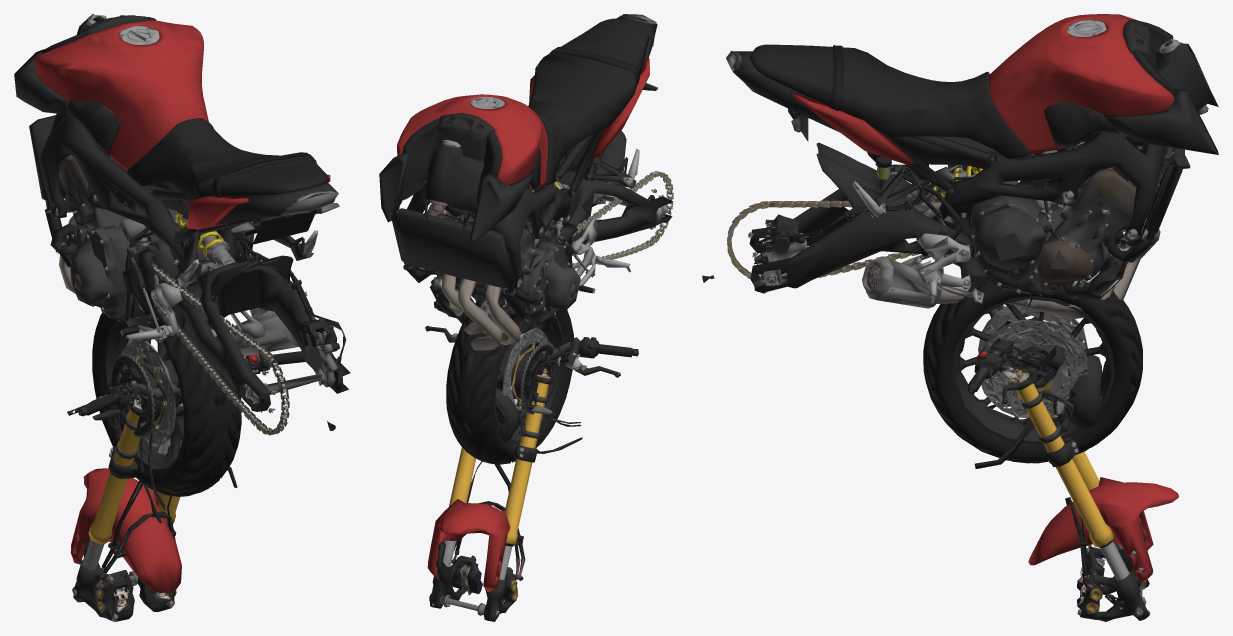
The model's file is StreetThree_Matte.fbx.
3 renders of one model, left to right at view 1: azimuth 30°, elevation 25°; view 2: azimuth 150°, elevation 25°; view 3: azimuth 270°, elevation 25°, orthographic. The views are drawn at different scales.
Visible parts, largest first — view 1: street_Body, street_GasTank, street_WheelRear, street_Seat, street_FenderFront, street_Fork, street_Steering, street_BrakeFront, street_Muffler, street_DiscFront, street_BrakeRear, street_RearSuspension (+1 smaller); view 2: street_Body, street_Seat, street_WheelRear, street_GasTank, street_Fork, street_FenderFront, street_Steering, street_Muffler, street_BrakeFront, street_DiscFront, street_Headlight, street_FenderRear; view 3: street_Body, street_GasTank, street_WheelRear, street_Seat, street_Fork, street_FenderFront, street_Muffler, street_Steering, street_DiscFront, street_DiscRear, street_Headlight, street_FenderRear (+3 smaller).
Part boxes in pixels (x1=…): street_Body: x1=14, y1=14, x2=350, y2=435; street_GasTank: x1=34, y1=15, x2=208, y2=170; street_WheelRear: x1=92, y1=312, x2=241, y2=496; street_Seat: x1=127, y1=118, x2=329, y2=201; street_FenderFront: x1=70, y1=468, x2=181, y2=592; street_Fork: x1=72, y1=405, x2=183, y2=617; street_Steering: x1=67, y1=351, x2=305, y2=573; street_BrakeFront: x1=94, y1=567, x2=176, y2=621; street_Muffler: x1=59, y1=216, x2=298, y2=355; street_DiscFront: x1=119, y1=339, x2=176, y2=446; street_BrakeRear: x1=298, y1=319, x2=340, y2=387; street_RearSuspension: x1=116, y1=194, x2=235, y2=273; street_Body: x1=379, y1=14, x2=673, y2=334; street_Seat: x1=528, y1=18, x2=649, y2=185; street_WheelRear: x1=446, y1=280, x2=573, y2=464; street_GasTank: x1=397, y1=94, x2=548, y2=202; street_Fork: x1=429, y1=375, x2=551, y2=621; street_FenderFront: x1=427, y1=499, x2=522, y2=591; street_Steering: x1=425, y1=301, x2=638, y2=558; street_Muffler: x1=441, y1=273, x2=521, y2=350; street_BrakeFront: x1=451, y1=551, x2=525, y2=606; street_DiscFront: x1=502, y1=328, x2=548, y2=415; street_Headlight: x1=495, y1=388, x2=533, y2=441; street_FenderRear: x1=568, y1=130, x2=626, y2=185; street_Body: x1=702, y1=20, x2=1218, y2=306; street_GasTank: x1=989, y1=14, x2=1174, y2=154; street_WheelRear: x1=923, y1=256, x2=1142, y2=463; street_Seat: x1=749, y1=44, x2=1030, y2=159; street_Fork: x1=1010, y1=366, x2=1150, y2=621; street_FenderFront: x1=1028, y1=477, x2=1178, y2=583; street_Muffler: x1=862, y1=218, x2=1160, y2=319; street_Steering: x1=967, y1=305, x2=1117, y2=603; street_DiscFront: x1=978, y1=305, x2=1088, y2=418; street_DiscRear: x1=990, y1=329, x2=1078, y2=409; street_Headlight: x1=1042, y1=355, x2=1102, y2=432; street_FenderRear: x1=816, y1=142, x2=882, y2=216.
Bounding box in the file's own units: 6.79 × 15.92 × 12.85.
